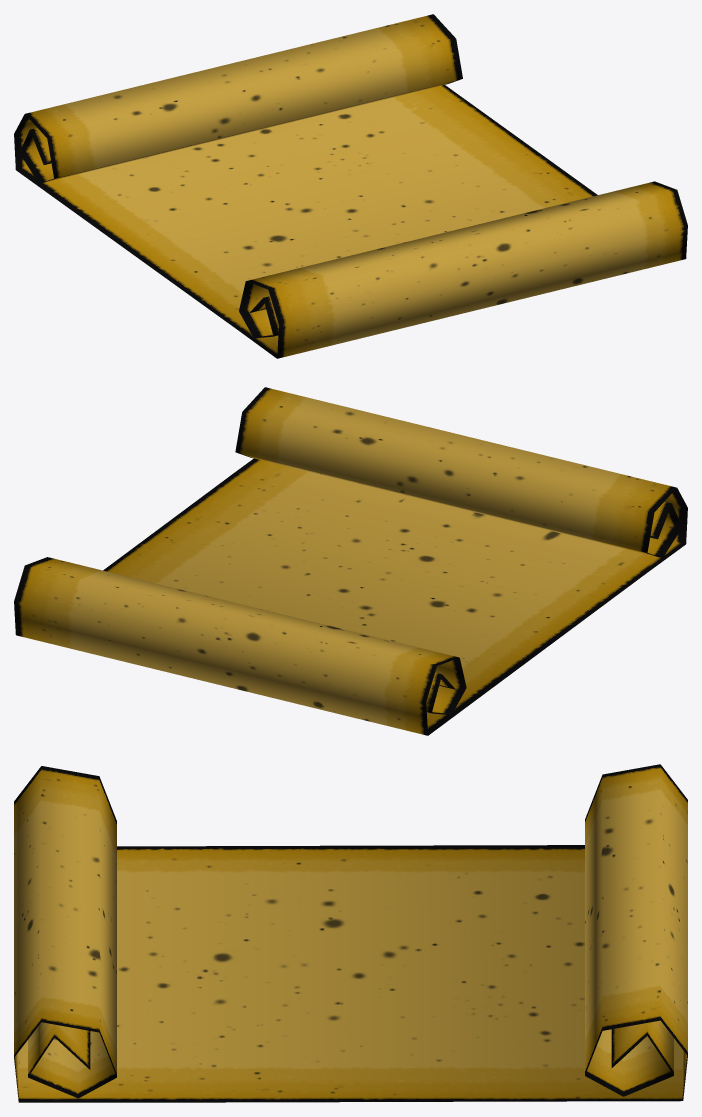
File: paper3.obj
3 views of the same model, one above another, from view 1: azimuth 30°, elevation 25°; view 2: azimuth 150°, elevation 25°; view 3: azimuth 270°, elevation 25° (orthographic). The views are drawn at different scales.
Visible parts, largest first — view 1: paper.002; view 2: paper.002; view 3: paper.002.
Part boxes in pixels (x1,y1,x2,y2): paper.002: (14,14,687,358); paper.002: (14,387,687,735); paper.002: (14,764,687,1102).
Size of the model in its own units: 1.38 by 0.2013 by 1.53.
